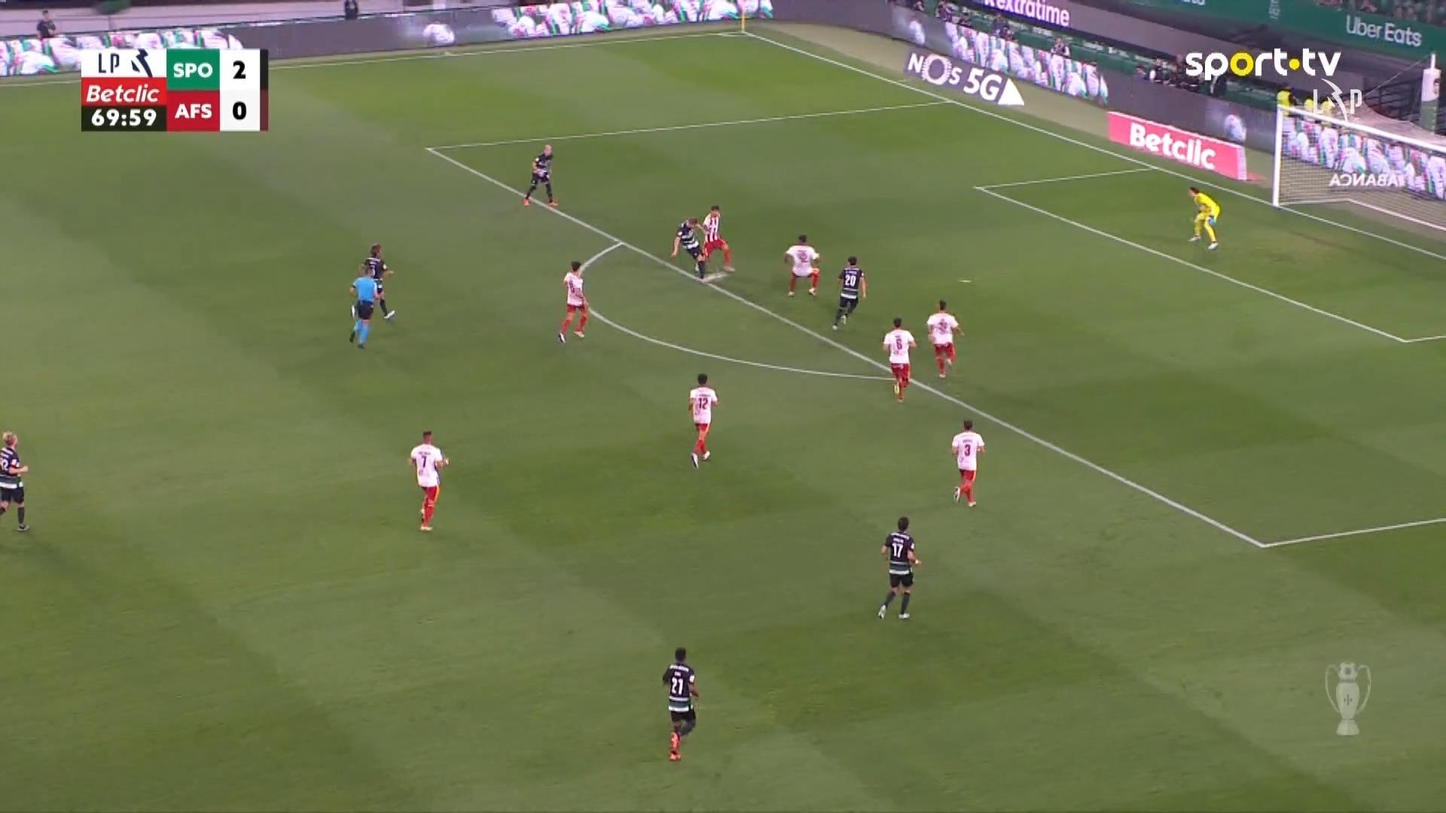goalkeeper: (1187, 184, 1220, 250)
player: (876, 516, 921, 620), (661, 646, 699, 761), (407, 429, 449, 531), (950, 418, 985, 507), (881, 316, 917, 401), (0, 430, 30, 531), (926, 298, 963, 379), (687, 373, 718, 468), (359, 242, 396, 321), (831, 255, 867, 330), (557, 260, 589, 344), (698, 203, 735, 273), (782, 233, 820, 297), (670, 216, 708, 279), (522, 143, 558, 208)
referee: (347, 261, 383, 349)
